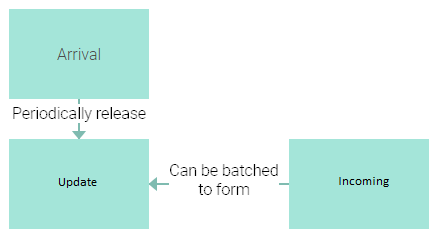arrow: (148, 178, 170, 191), (71, 121, 86, 139), (277, 179, 290, 188), (76, 98, 82, 105)
process: (7, 137, 151, 231), (286, 137, 431, 230), (7, 8, 151, 100)
text: (169, 162, 281, 195), (11, 105, 146, 123), (336, 174, 390, 188), (55, 46, 101, 61), (56, 175, 98, 189)
